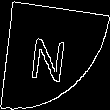N_N: (34, 27, 76, 83)
